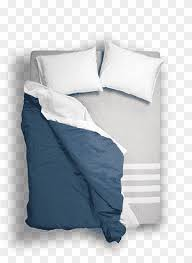bed-matress: (26, 45, 165, 231)
